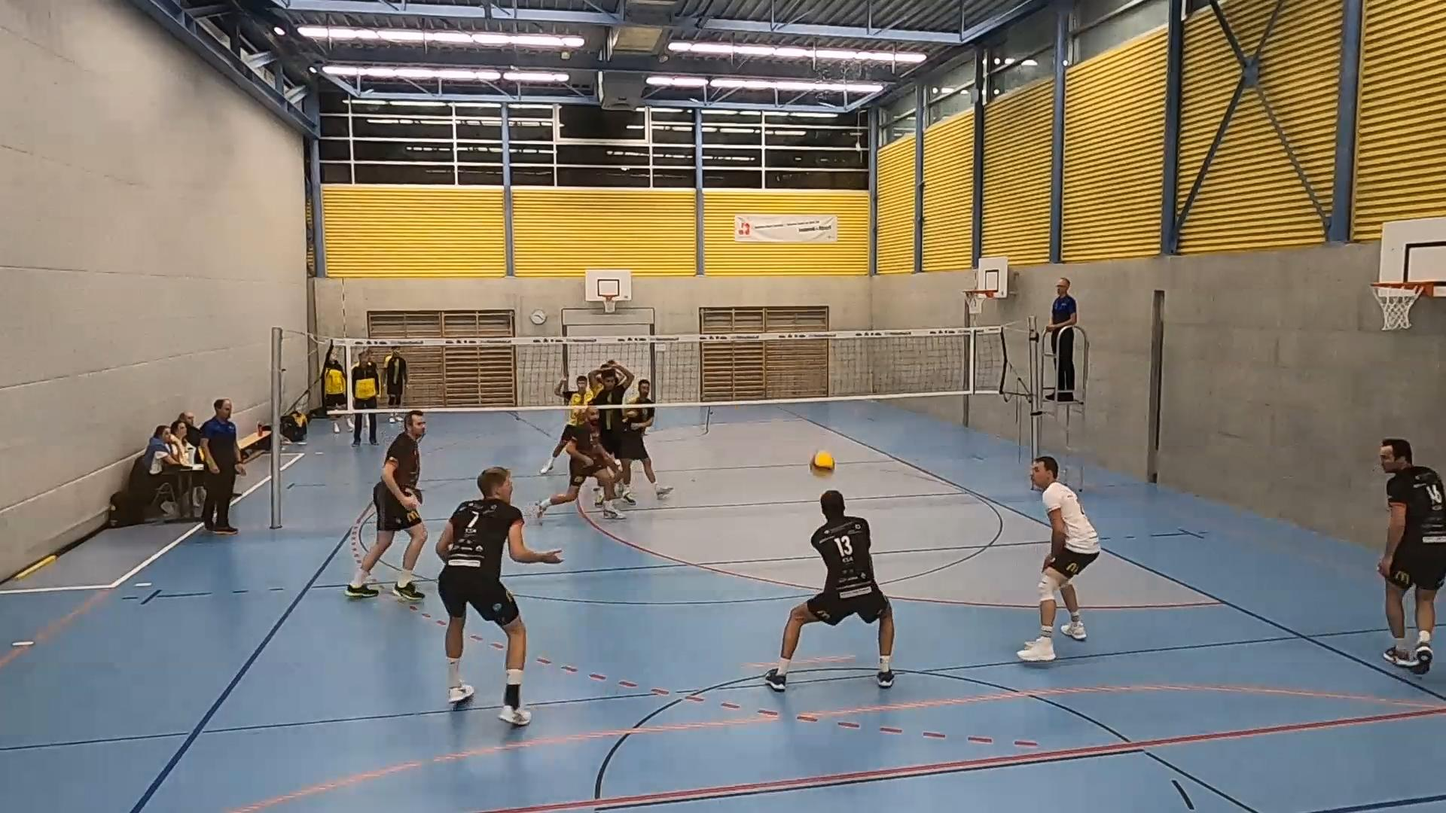Player: (436, 467, 561, 725), (1017, 456, 1100, 661), (1378, 439, 1445, 674), (345, 410, 426, 601), (534, 406, 623, 518), (617, 379, 672, 498), (540, 370, 601, 474), (593, 360, 635, 480)
Receive: (762, 487, 900, 694)
ball: (809, 448, 835, 477)
